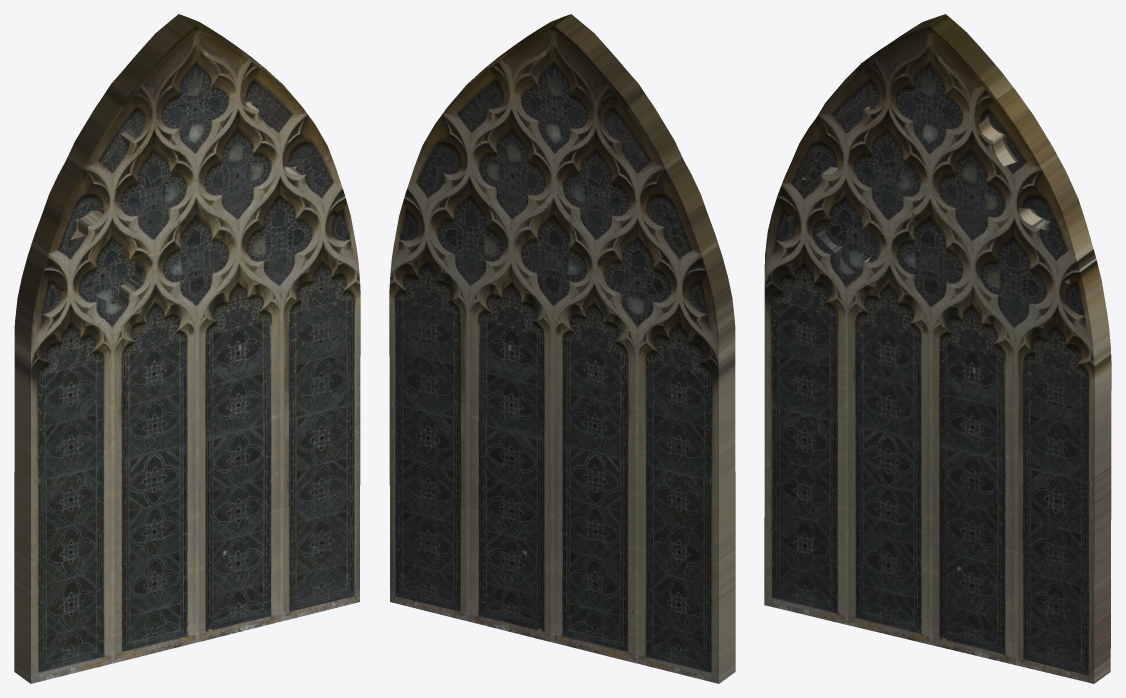
Rendered from GothicWindow.fbx.
3 views of the same model, side by side, from view 1: azimuth 30°, elevation 25°; view 2: azimuth 150°, elevation 25°; view 3: azimuth 330°, elevation 25° (orthographic).
Parts seen in each view (by area): view 1: frame; view 2: frame; view 3: frame.
Part boxes in pixels (<box>): frame: <box>14,14,360,683</box>; frame: <box>389,14,735,683</box>; frame: <box>764,14,1111,683</box>.
Size of the model in its own units: 214 by 382 by 18.52.
